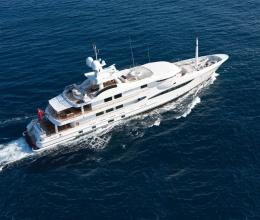yacht: (25, 37, 227, 149)
